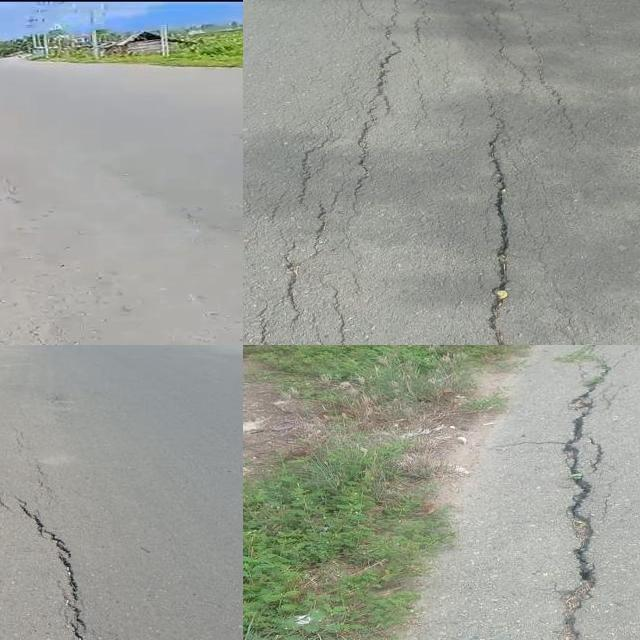Memanjang: (502, 345, 640, 640), (0, 446, 111, 640)
